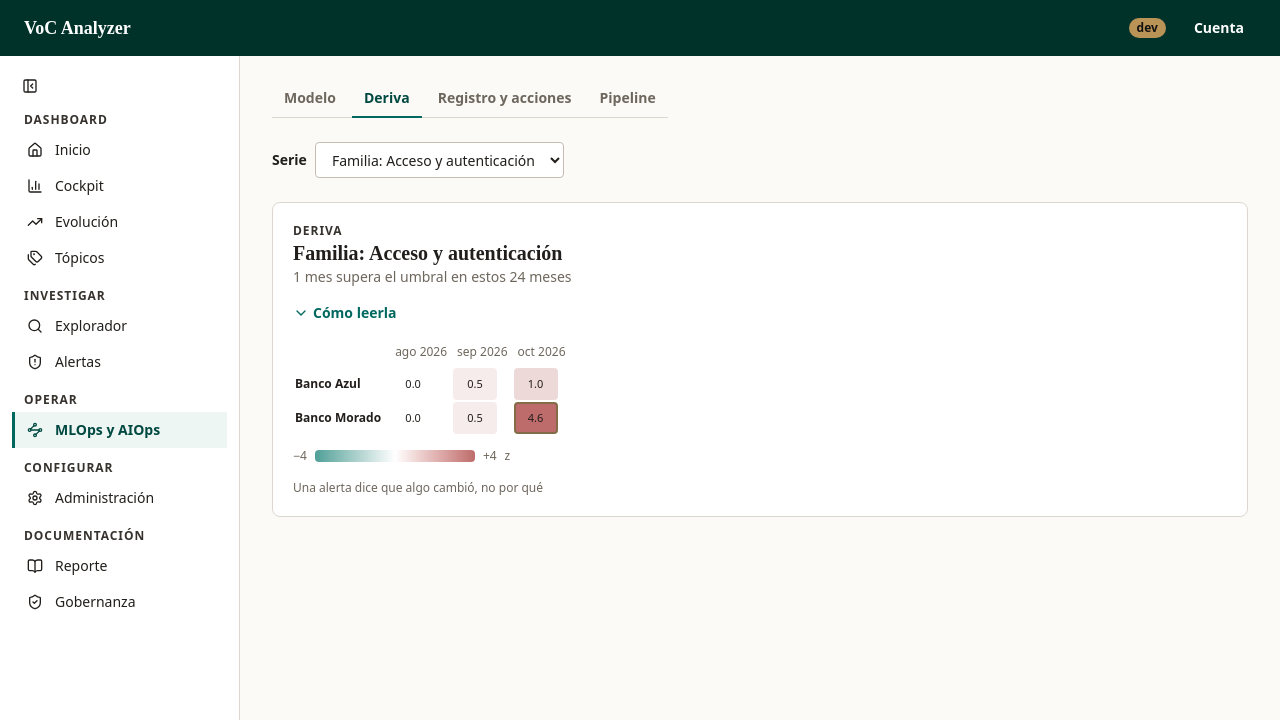
Test: MLOps: deriva › pinta el mapa de calor, marca los meses sobre el umbral y abre la serie
Expected: the text "1 mes supera el umbral en estos 24 meses" is shown, [293,267,572,287]
Click the button named "Banco Morado, oct 2026: z 4.6, supera el umbral" at [536, 418], box [514,402,558,434]
(page scrolled)
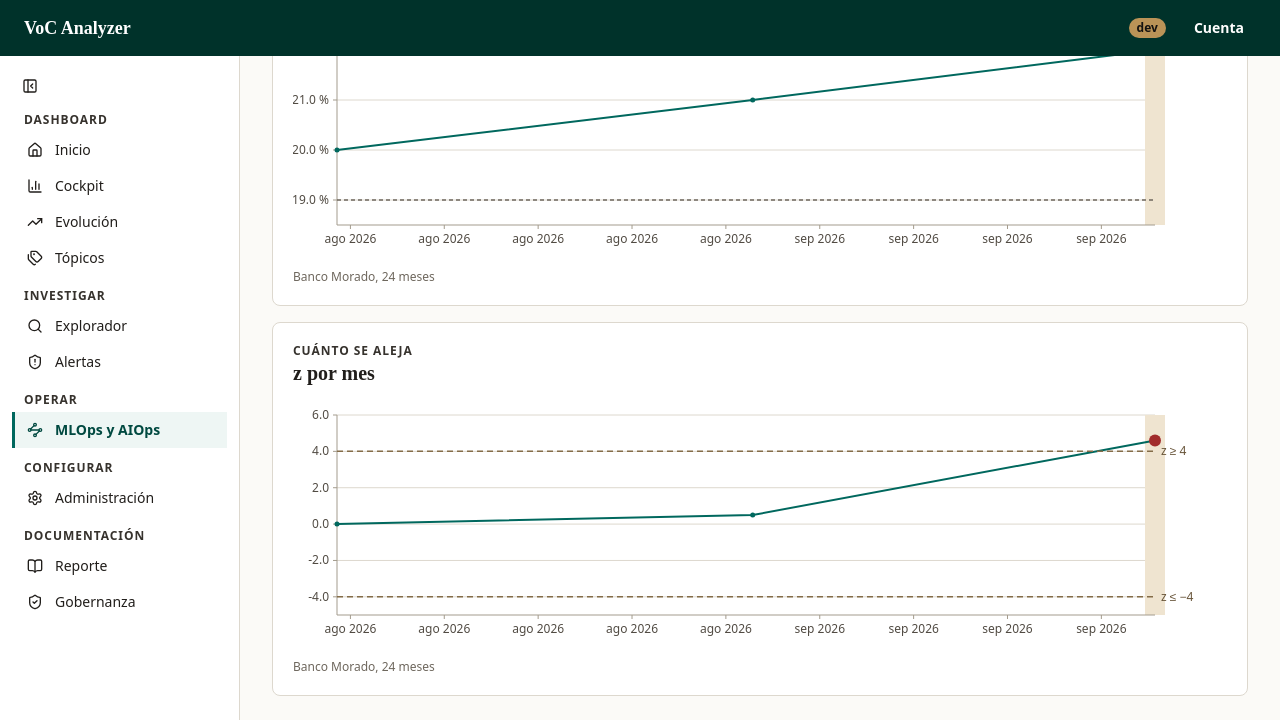
Expected: the picture named "z mensual" is shown, [293,403,1227,643]
